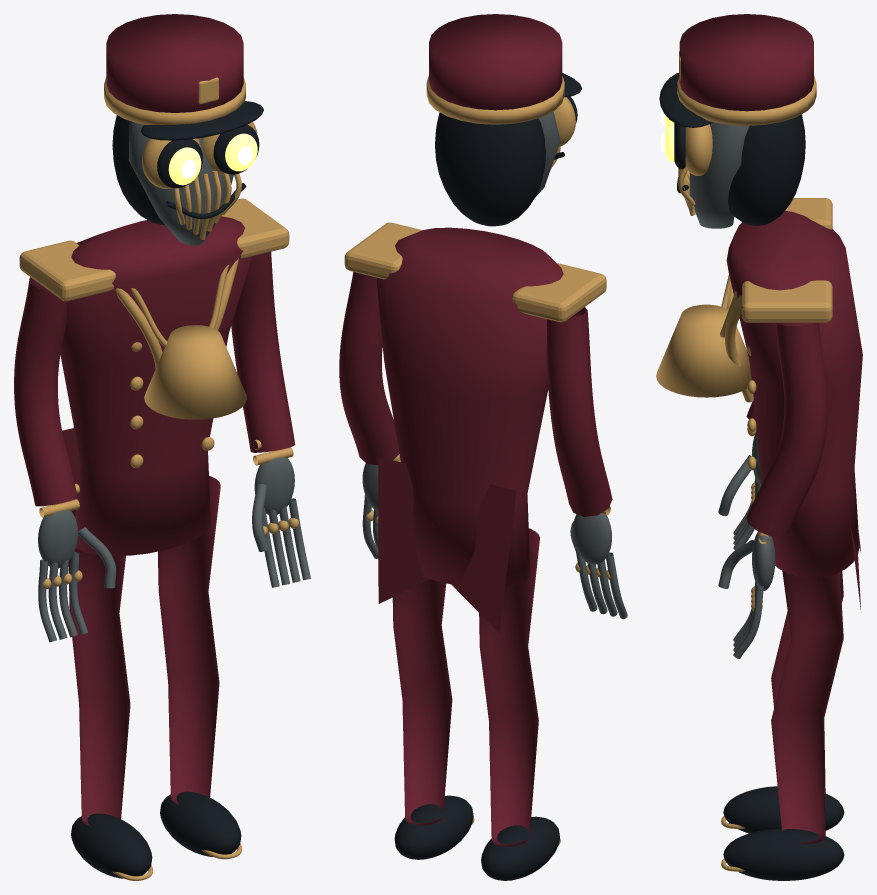
File: porteiro.glb
The picture shows the model from 3 angles, left to right: view 1: azimuth 30°, elevation 25°; view 2: azimuth 150°, elevation 25°; view 3: azimuth 270°, elevation 25°; orthographic projection. The views are drawn at different scales.
Parts seen in each view (by area): view 1: long coat, long trouser.001, long trouser, burgundy cap, long sleeve, long sleeve.001, sino no peito, polished shoe, polished shoe.001, epaulette, metal face, epaulette.001 (+22 smaller); view 2: long coat, long trouser, burgundy cap, long trouser.001, dark mask back, long sleeve, long sleeve.001, coat tail.001, coat tail, polished shoe.001, polished shoe, epaulette (+7 smaller); view 3: long coat, long trouser.001, burgundy cap, long sleeve.001, dark mask back, sino no peito, polished shoe.001, metal face, epaulette.001, polished shoe, hat band, eye brass socket.001 (+9 smaller).
Boxes of the visible parts, left/top/right/bottom form: long coat: left=60, top=216, right=252, bottom=556; long trouser.001: left=158, top=476, right=220, bottom=804; long trouser: left=68, top=510, right=130, bottom=826; burgundy cap: left=106, top=14, right=243, bottom=112; long sleeve: left=14, top=277, right=77, bottom=506; long sleeve.001: left=231, top=251, right=295, bottom=452; sino no peito: left=144, top=325, right=246, bottom=419; polished shoe: left=71, top=813, right=152, bottom=878; polished shoe.001: left=160, top=791, right=241, bottom=856; epaulette: left=19, top=240, right=115, bottom=301; metal face: left=128, top=121, right=233, bottom=245; epaulette.001: left=221, top=198, right=289, bottom=258; long coat: left=376, top=227, right=563, bottom=586; long trouser: left=479, top=528, right=539, bottom=846; burgundy cap: left=429, top=14, right=562, bottom=110; long trouser.001: left=392, top=579, right=452, bottom=825; dark mask back: left=435, top=112, right=545, bottom=226; long sleeve: left=546, top=307, right=612, bottom=516; long sleeve.001: left=339, top=272, right=399, bottom=465; coat tail.001: left=378, top=457, right=429, bottom=603; coat tail: left=451, top=484, right=516, bottom=633; polished shoe.001: left=394, top=795, right=473, bottom=859; polished shoe: left=481, top=816, right=559, bottom=880; epaulette: left=512, top=263, right=606, bottom=322; long coat: left=726, top=210, right=862, bottom=578; long trouser.001: left=771, top=571, right=843, bottom=844; burgundy cap: left=679, top=14, right=813, bottom=111; long sleeve.001: left=746, top=322, right=828, bottom=537; dark mask back: left=728, top=114, right=805, bottom=225; sino no peito: left=656, top=304, right=751, bottom=397; polished shoe.001: left=723, top=829, right=844, bottom=880; metal face: left=689, top=122, right=749, bottom=228; epaulette.001: left=742, top=280, right=832, bottom=322; polished shoe: left=723, top=786, right=844, bottom=833; hat band: left=677, top=75, right=816, bottom=125; eye brass socket.001: left=685, top=124, right=712, bottom=175.
Size of the model in its own units: 0.8894 by 2.67 by 0.615.
